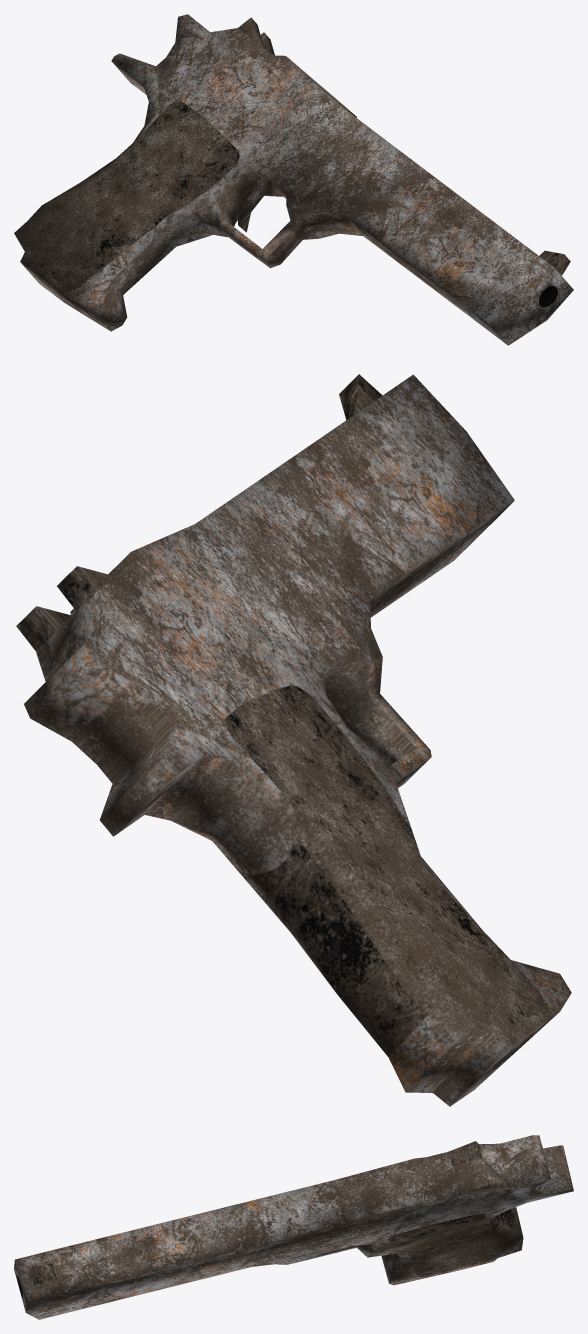
Rendered from Anim_disparar_pistola_objetos.0027.obj.
3 views of the same model, one above another, from view 1: azimuth 30°, elevation 25°; view 2: azimuth 150°, elevation 25°; view 3: azimuth 270°, elevation 25° (orthographic). The views are drawn at different scales.
Parts seen in each view (by area): view 1: Pistola1; view 2: Pistola1; view 3: Pistola1.
Boxes of the visible parts, left/top/right/bottom form: Pistola1: left=14, top=14, right=573, bottom=345; Pistola1: left=16, top=374, right=571, bottom=1106; Pistola1: left=14, top=1135, right=573, bottom=1319.
Size of the model in its own units: 1.07 by 0.7618 by 1.68.
